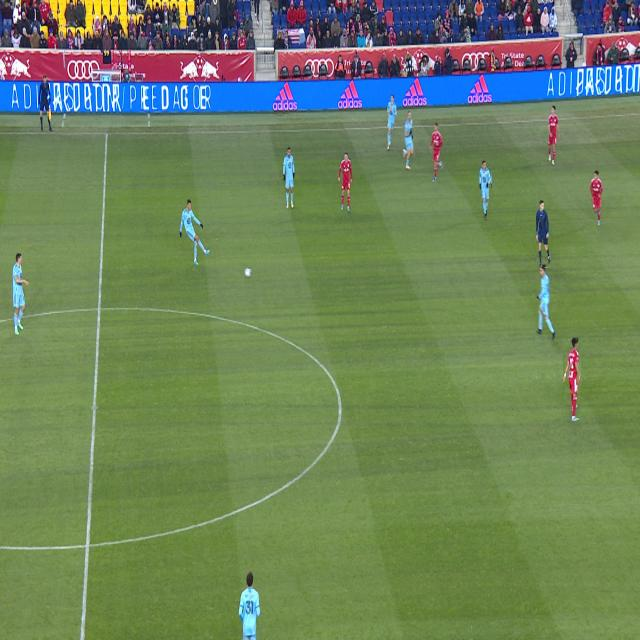football: (244, 267, 252, 277)
player: (179, 199, 210, 265), (563, 337, 581, 421), (239, 571, 260, 640), (536, 265, 555, 340), (12, 253, 29, 335), (338, 151, 352, 212), (429, 122, 443, 182), (283, 147, 295, 209), (590, 170, 603, 226), (548, 105, 560, 165), (403, 111, 414, 170), (480, 161, 491, 219), (387, 95, 397, 150)
referee: (536, 200, 551, 268)
